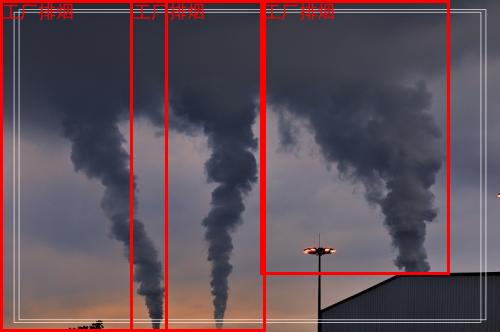工厂排烟: (0, 0, 167, 331), (260, 0, 449, 274), (130, 0, 265, 331)
